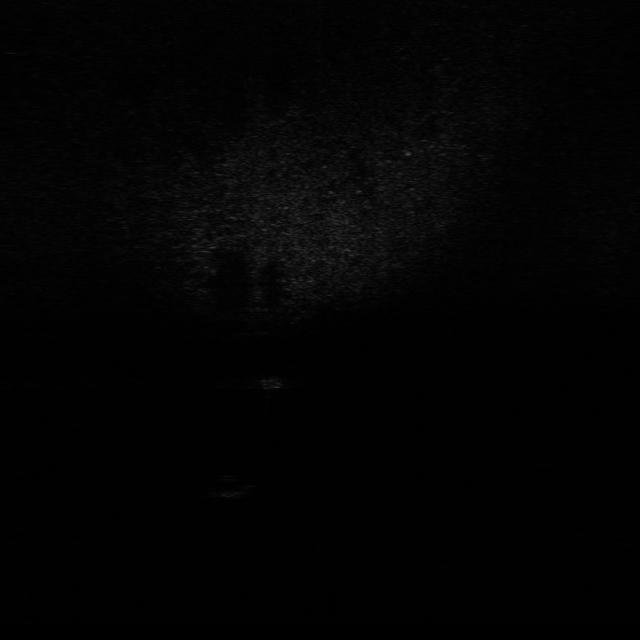ball: (213, 469, 258, 501)
cube: (256, 372, 288, 392)
